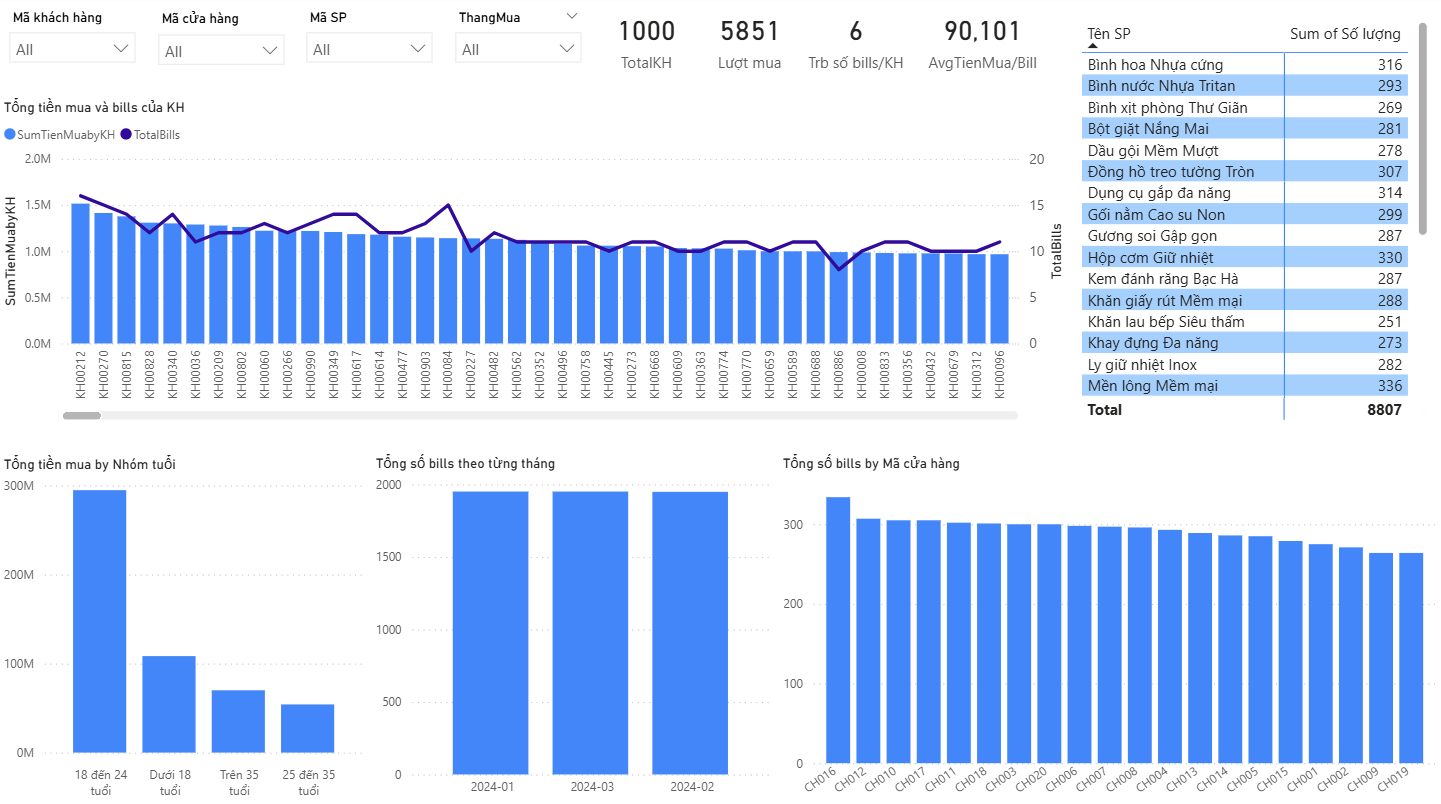

The dashboard page shown, as its layout file describes it:
{"tool":"powerbi","page":{"name":"KH","canvas":[1280,720],"ordinal":0},"visuals":[{"type":"slicer","fields":{"Values":["KH.Mã khách hàng"]},"box":[0,7.3,131.8,67.4],"z":0},{"type":"slicer","fields":{"Values":["ChiPhi.Mã cửa hàng"]},"box":[131.8,7.3,131.8,67.4],"z":1000},{"type":"slicer","fields":{"Values":["SP.Mã SP"]},"box":[263.6,7.3,131.8,67.4],"z":2000},{"type":"card","fields":{"Values":["BanHang.CountDistinctKH"]},"box":[528.6,0,93,75.6],"z":3000},{"type":"card","fields":{"Values":["BanHang.TotalBills"]},"box":[621.6,0,89.9,75.6],"z":4000},{"type":"card","fields":{"Values":["BanHang.BinhQuanSoBill"]},"box":[711.5,0,99.1,75.6],"z":5000},{"type":"lineStackedColumnComboChart","fields":{"Y":["BanHang.SumTienMuabyKH"],"Category":["KH.Nhóm tuổi"]},"box":[0,407,274,312.1],"z":6000},{"type":"slicer","fields":{"Values":["BanHang.ThangMua"]},"box":[395.1,7.3,131.7,67.4],"z":7000},{"type":"card","fields":{"Values":["BanHang.AvgTienMua/Bill"]},"box":[810.1,0,125.4,75.9],"z":8000},{"type":"lineStackedColumnComboChart","title":"Tổng tiền mua và bills của KH ","fields":{"Category":["BanHang.Mã khách hàng"],"Y":["BanHang.SumTienMuabyKH"],"Y2":["BanHang.TotalBills"]},"box":[0,90.4,949.5,290.3],"z":10000},{"type":"pivotTable","fields":{"Rows":["SP.Tên SP"],"Values":["Sum(BanHang.Số lượng)"]},"box":[955.9,17.7,316.6,362.7],"z":11000},{"type":"clusteredColumnChart","title":"Sô Lượt KH quay lại theo từng CH","fields":{"Category":["BanHang.Mã cửa hàng"],"Y":["BanHang.SoKHquaylaitheoCH"]},"box":[783.8,407,496.6,313],"z":12001},{"type":"clusteredColumnChart","title":"Sô lượt KH đến CH","fields":{"Category":["BanHang.Mã cửa hàng"],"Y":["BanHang.SoKHvisitCH","BanHang.SoLuotKHquaylaitheoCH"]},"box":[274,407,509.9,313],"z":12002}]}

Visuals, with their boxes in screenshot pixels (x1, y1, x2, y2), scaled from the page's 1280x720 canvas onto the 1441x804 screenshot:
slicer - KH.Mã khách hàng: box(0, 8, 148, 83)
slicer - ChiPhi.Mã cửa hàng: box(148, 8, 297, 83)
slicer - SP.Mã SP: box(297, 8, 445, 83)
card - BanHang.CountDistinctKH: box(595, 0, 700, 84)
card - BanHang.TotalBills: box(700, 0, 801, 84)
card - BanHang.BinhQuanSoBill: box(801, 0, 913, 84)
lineStackedColumnComboChart - BanHang.SumTienMuabyKH x KH.Nhóm tuổi: box(0, 454, 308, 803)
slicer - BanHang.ThangMua: box(445, 8, 593, 83)
card - BanHang.AvgTienMua/Bill: box(912, 0, 1053, 85)
"Tổng tiền mua và bills của KH " lineStackedColumnComboChart: box(0, 101, 1069, 425)
pivotTable - SP.Tên SP x Sum(BanHang.Số lượng): box(1076, 20, 1433, 425)
"Sô Lượt KH quay lại theo từng CH" clusteredColumnChart: box(882, 454, 1440, 803)
"Sô lượt KH đến CH" clusteredColumnChart: box(308, 454, 882, 803)
